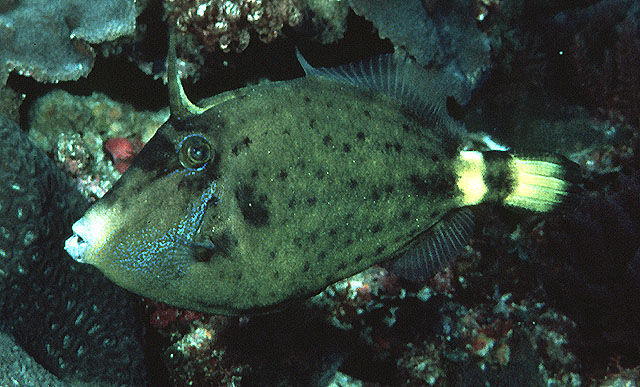fish: (64, 24, 570, 314)
